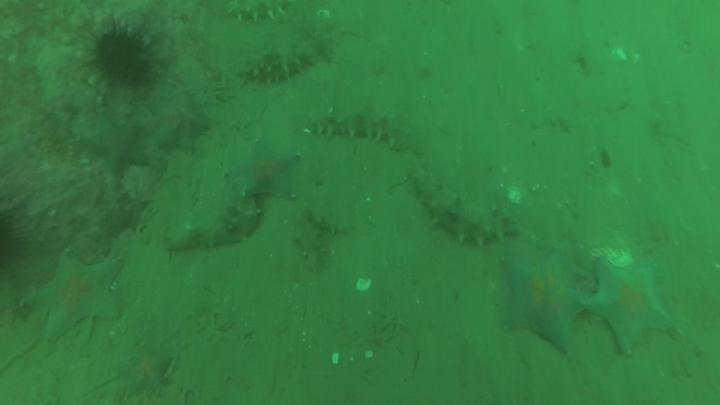echinus: (94, 34, 148, 91)
holothurian: (412, 168, 514, 246), (164, 204, 263, 251), (309, 109, 406, 150), (236, 41, 317, 88), (294, 205, 349, 268), (229, 3, 290, 24)
starfish: (582, 252, 676, 353), (22, 250, 122, 342), (502, 254, 585, 356), (227, 140, 301, 200), (76, 117, 149, 173), (152, 102, 211, 158), (118, 346, 173, 395)
